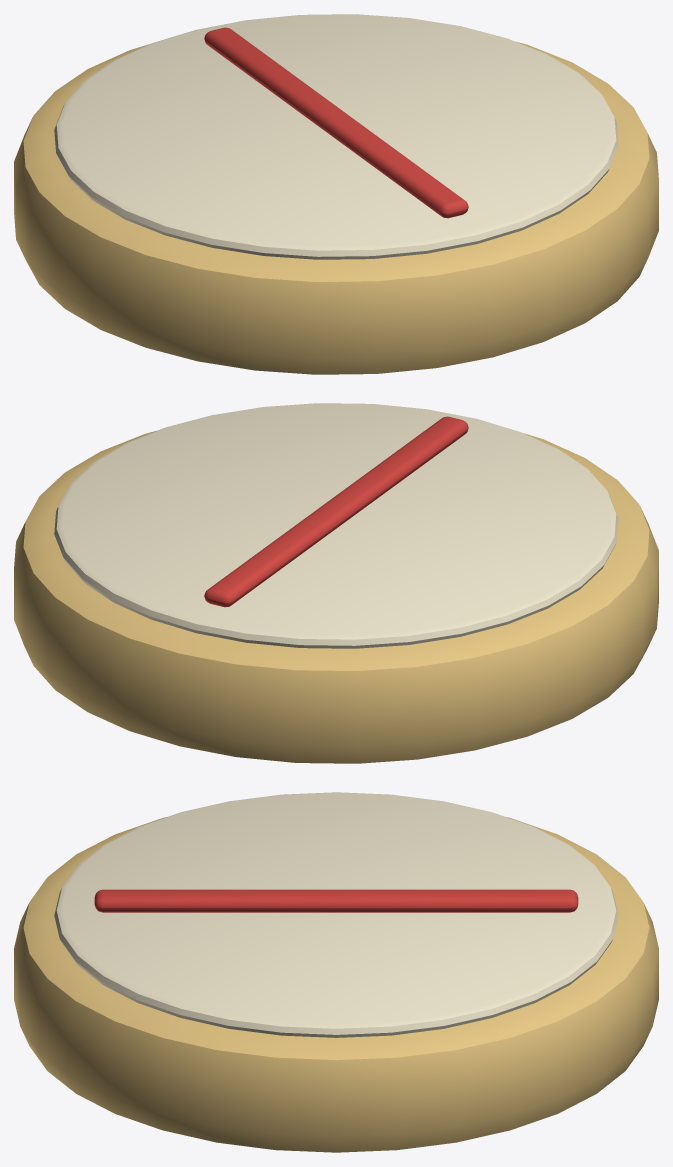
File: compass.glb
3 views of the same model, one above another, from view 1: azimuth 30°, elevation 25°; view 2: azimuth 150°, elevation 25°; view 3: azimuth 270°, elevation 25° (orthographic).
Parts seen in each view (by area): view 1: face, case, needle; view 2: face, case, needle; view 3: face, case, needle.
Part boxes in pixels (<box>): face: <box>54,14,618,259</box>; case: <box>14,41,658,374</box>; needle: <box>204,27,468,218</box>; face: <box>54,403,618,648</box>; case: <box>14,430,658,763</box>; needle: <box>204,416,468,607</box>; face: <box>54,792,618,1037</box>; case: <box>14,817,658,1152</box>; needle: <box>94,889,578,912</box>.
Bounding box in the file's own units: 0.08 × 0.0185 × 0.08.
